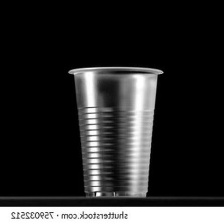glass: (62, 62, 167, 200)
